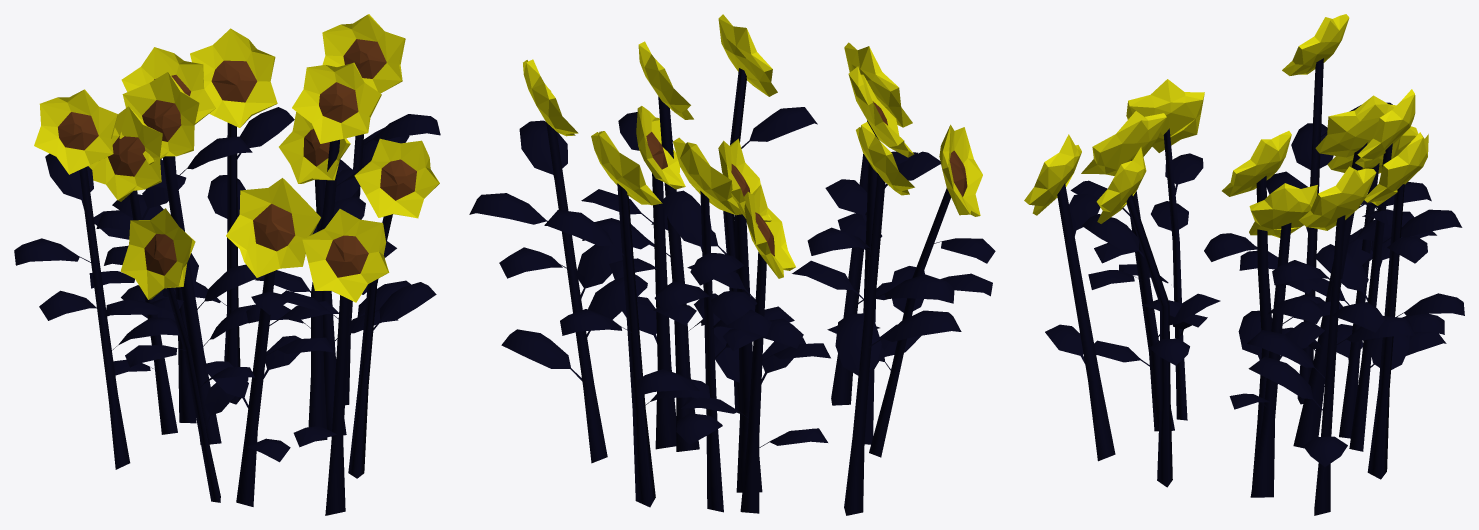
Rendered from PatchSunflower04.fbx.
The picture shows the model from 3 angles, left to right: view 1: azimuth 30°, elevation 25°; view 2: azimuth 150°, elevation 25°; view 3: azimuth 270°, elevation 25°; orthographic projection. The views are drawn at different scales.
Visible parts, largest first — view 1: PatchSunflower04; view 2: PatchSunflower04; view 3: PatchSunflower04.
Part boxes in pixels (left/top/right/bottom): PatchSunflower04: left=14, top=14, right=440, bottom=515; PatchSunflower04: left=469, top=14, right=995, bottom=515; PatchSunflower04: left=1024, top=14, right=1464, bottom=515.
Bounding box in the file's own units: 153 × 132 × 141.
